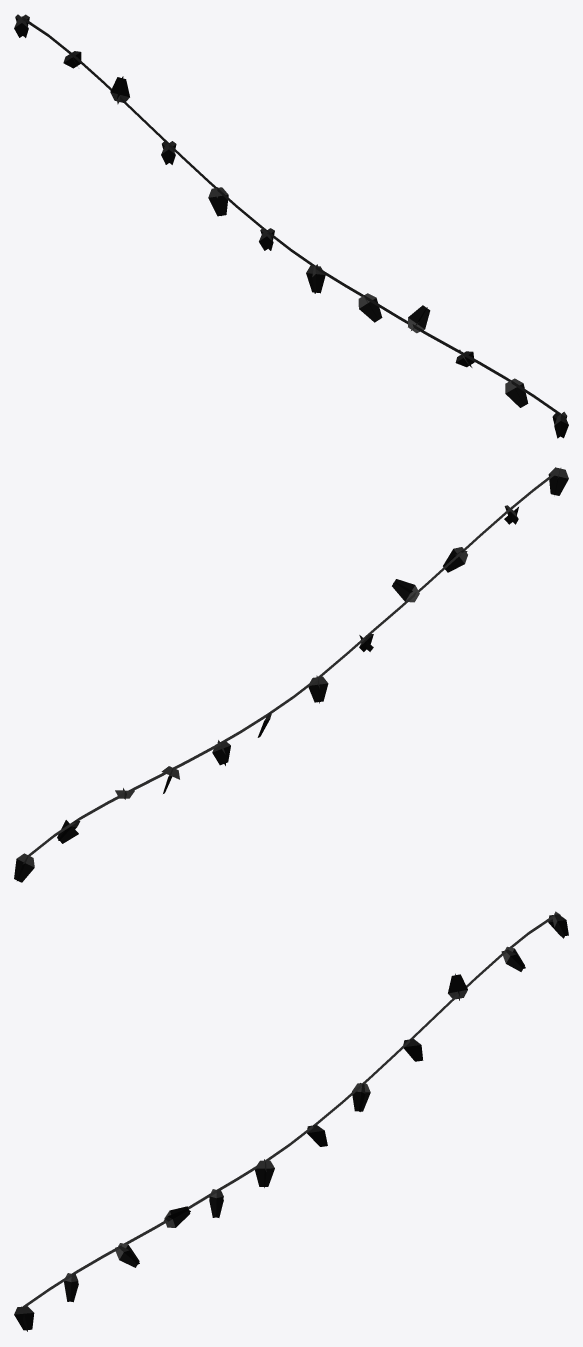
The picture shows the model from 3 angles, top to bottom: view 1: azimuth 30°, elevation 25°; view 2: azimuth 150°, elevation 25°; view 3: azimuth 330°, elevation 25°; orthographic projection.
Visible parts, largest first — view 1: BezierCurve.001; view 2: BezierCurve.001; view 3: BezierCurve.001.
Part boxes in pixels (x1,y1,x2,y2): BezierCurve.001: [14, 14, 568, 438]; BezierCurve.001: [14, 467, 568, 882]; BezierCurve.001: [14, 911, 568, 1331].
Size of the model in its own units: 0.1769 by 0.4487 by 6.14.
Materials: 2 (1 with a texture image).
